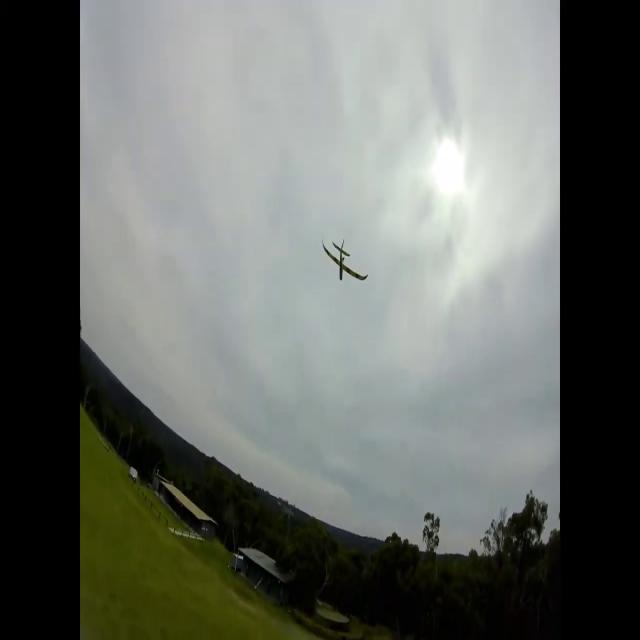iha: (323, 241, 367, 283)
